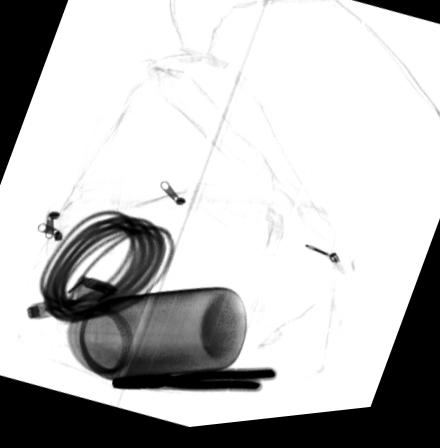Pliers: (110, 371, 276, 398)
